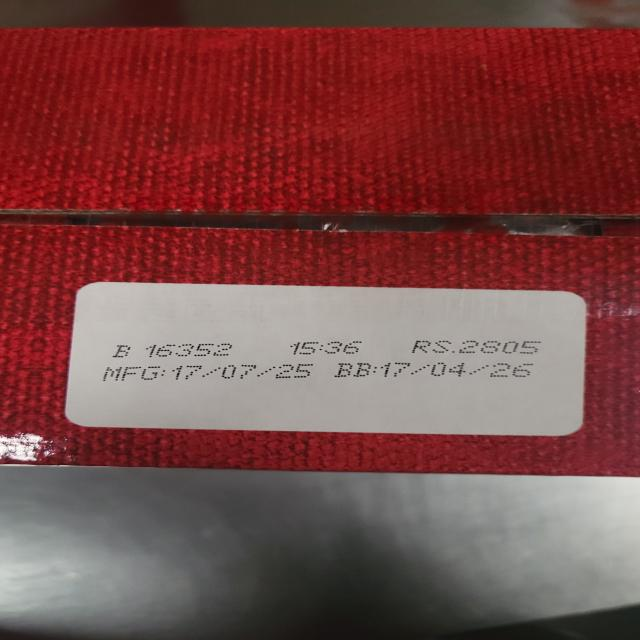BB: (329, 362, 536, 379)
Batch: (111, 343, 242, 358)
MFG: (106, 364, 316, 381)
RS: (410, 340, 543, 354)
TimeStamp: (288, 341, 367, 355)
